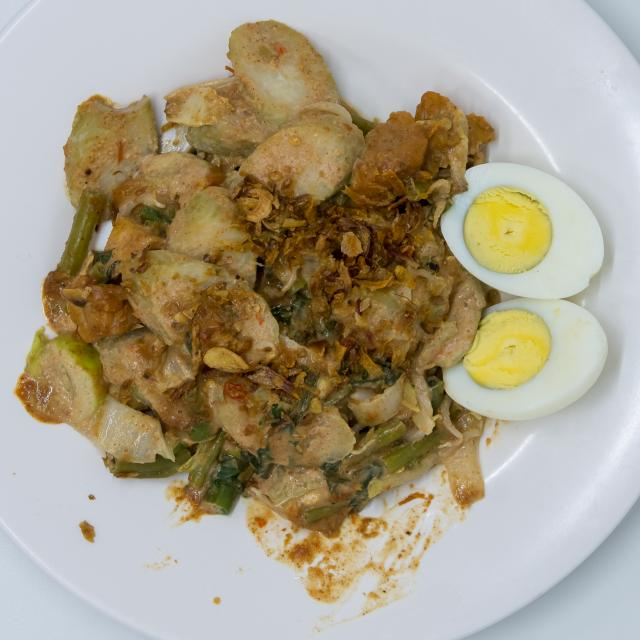Gado-Gado: (14, 11, 616, 549)
